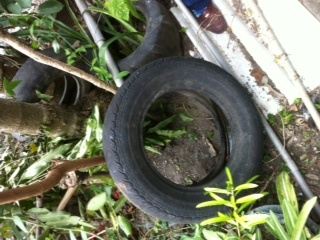tire: (100, 54, 267, 225)
